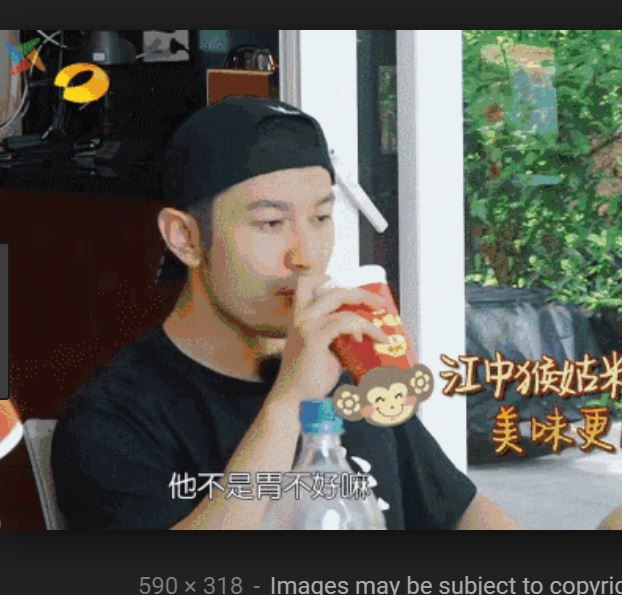cup: (314, 263, 416, 374)
